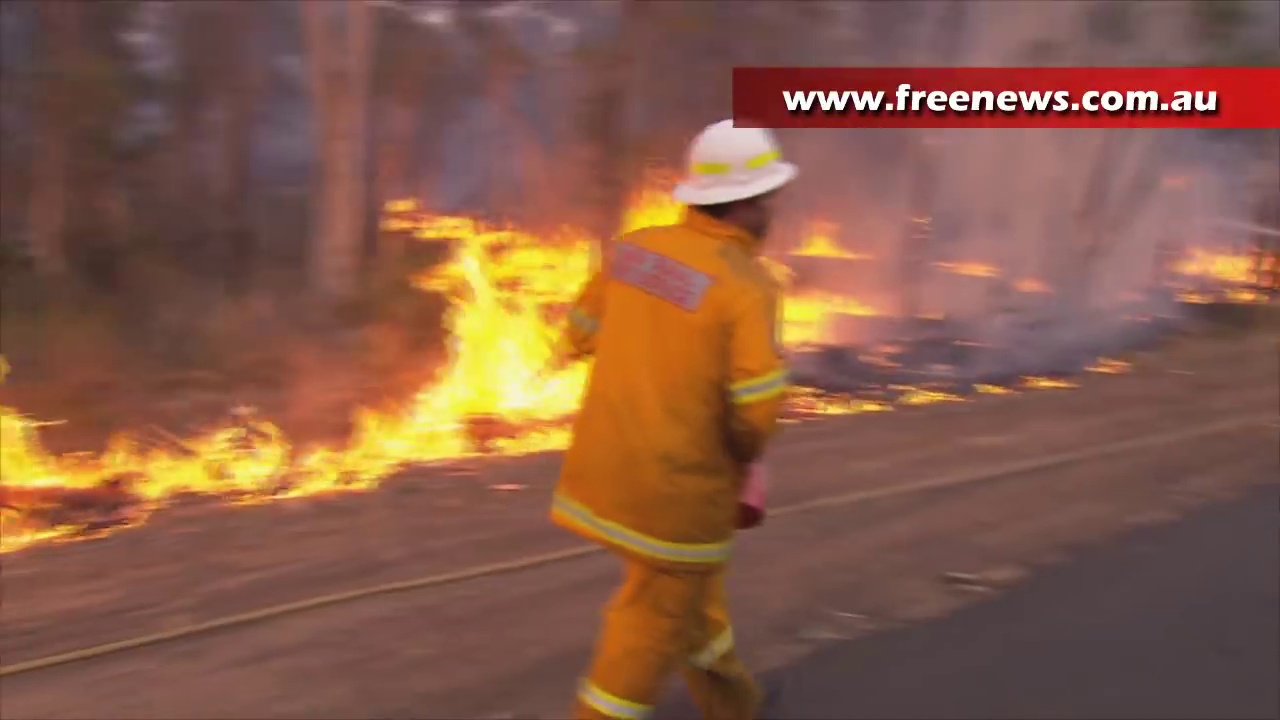fire: (345, 192, 572, 492), (1, 407, 339, 490), (778, 287, 862, 349), (1180, 244, 1280, 280), (626, 184, 684, 229), (801, 229, 842, 259)
